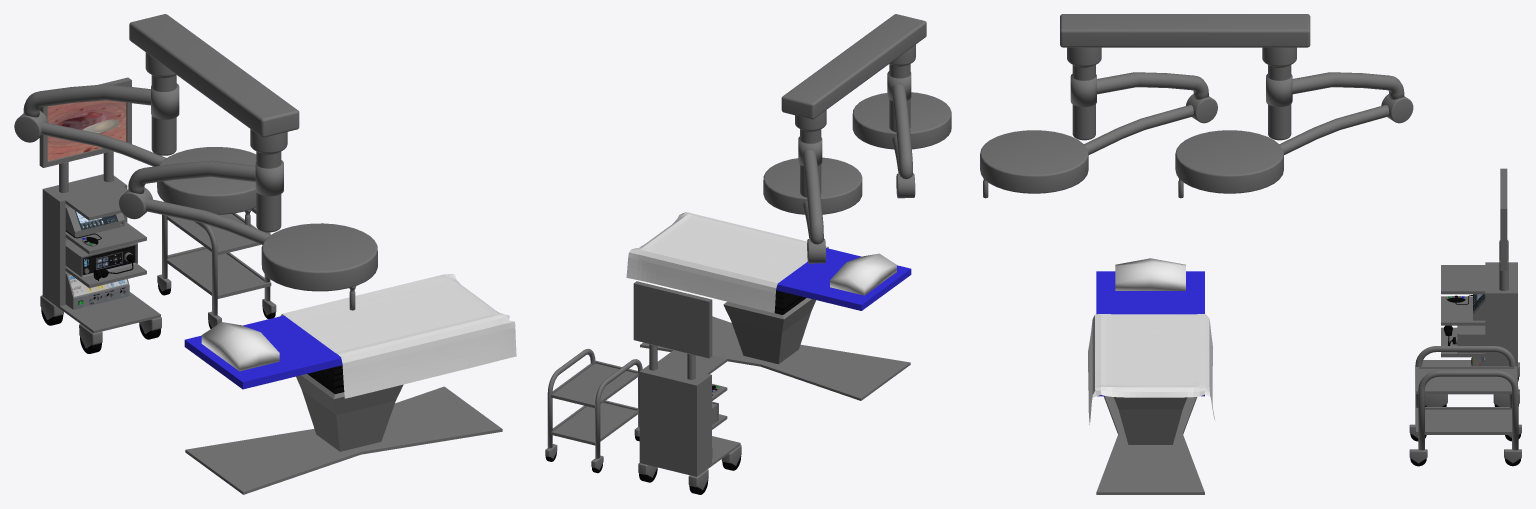
Rendered from Op-Saal.fbx.
3 renders of one model, left to right at view 1: azimuth 30°, elevation 25°; view 2: azimuth 150°, elevation 25°; view 3: azimuth 270°, elevation 25°, orthographic. The views are drawn at different scales.
Visible parts, largest first — view 1: Obj_OP_Bett, Obj_Oplicht, Obj_Computer, Obj_Schiebewagen; view 2: Obj_OP_Bett, Obj_Oplicht, Obj_Computer, Obj_Schiebewagen; view 3: Obj_Oplicht, Obj_OP_Bett, Obj_Computer, Obj_Schiebewagen.
Part boxes in pixels (bbox=[...]): Obj_OP_Bett: bbox=[184, 274, 516, 494]; Obj_Oplicht: bbox=[14, 14, 377, 310]; Obj_Computer: bbox=[39, 77, 161, 353]; Obj_Schiebewagen: bbox=[157, 207, 276, 328]; Obj_OP_Bett: bbox=[626, 212, 911, 400]; Obj_Oplicht: bbox=[763, 14, 951, 263]; Obj_Computer: bbox=[633, 281, 741, 494]; Obj_Schiebewagen: bbox=[545, 348, 642, 473]; Obj_Oplicht: bbox=[980, 14, 1413, 198]; Obj_OP_Bett: bbox=[1088, 258, 1215, 494]; Obj_Computer: bbox=[1422, 168, 1519, 406]; Obj_Schiebewagen: bbox=[1409, 346, 1521, 466].
Bounding box in the file's own units: 6.64 × 7.39 × 9.98.
11 materials, 4 textured.
